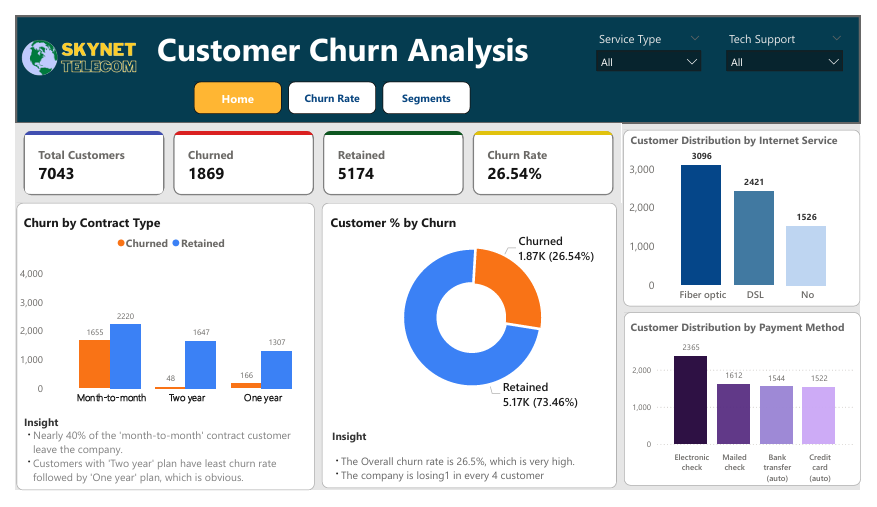

This screenshot's page, from the dashboard's own definition file:
{"tool":"powerbi","page":{"name":"Home","canvas":[1280,720],"ordinal":0},"visuals":[{"type":"shape","box":[0,0,1280,720],"z":0},{"type":"shape","box":[0,0,1280,162.9],"z":1000},{"type":"shape","box":[464.3,284.3,447.1,432.9],"z":2000},{"type":"shape","box":[922,450,358.6,263],"z":3000},{"type":"shape","box":[921.4,172.9,358.6,268.6],"z":4000},{"type":"textbox","box":[214.3,17.1,592.9,82.9],"z":5000},{"type":"cardVisual","fields":{"Data":["Count(churn_data.customerID)","churn_data.Churned Customer","churn_data.Retained Customer","churn_data.Churn Rate"]},"box":[0,163.1,919,120.5],"z":6000},{"type":"textbox","box":[471.7,295.3,355.6,36.7],"z":7000},{"type":"shape","box":[1.4,284.3,451.4,435.7],"z":8000},{"type":"clusteredColumnChart","fields":{"Category":["churn_data.Contract"],"Y":["CountNonNull(churn_data.Contract)"],"Series":["churn_data.Churn"]},"box":[1.5,323.3,467.3,276.2],"z":9000},{"type":"textbox","box":[7.3,295.3,373.2,39.7],"z":10000},{"type":"donutChart","fields":{"Category":["churn_data.Churn"],"Y":["CountNonNull(churn_data.Churn)"]},"box":[471.7,315.9,439.3,283.6],"z":11000},{"type":"columnChart","fields":{"Category":["churn_data.InternetService"],"Y":["CountNonNull(churn_data.customerID)"]},"box":[930.1,192.5,333.6,245.4],"z":12000},{"type":"clusteredColumnChart","fields":{"Category":["churn_data.PaymentMethod"],"Y":["CountNonNull(churn_data.customerID)"]},"box":[928.6,481.4,347.1,235.7],"z":13000},{"type":"textbox","box":[927.2,173.4,340.9,36.7],"z":14000},{"type":"textbox","box":[927.1,457.1,341.4,34.3],"z":15000},{"type":"textbox","box":[470.2,621.6,430.5,98.4],"z":16000},{"type":"image","box":[2.7,16.5,191.1,96.2],"z":17000},{"type":"pageNavigator","box":[270,100,421.4,48.6],"z":18000},{"type":"textbox","box":[2.9,599.5,421.7,117.6],"z":19000},{"type":"slicer","fields":{"Values":["churn_data.InternetService"]},"box":[871.3,17.6,177.8,77.9],"z":20000},{"type":"slicer","fields":{"Values":["churn_data.TechSupport"]},"box":[1068.2,17.6,195.4,77.9],"z":21000}]}

Visuals, with their boxes in screenshot pixels (x1, y1, x2, y2), scaled from the page's 1280x720 canvas onto the 877x507 screenshot:
shape: (0, 0, 876, 506)
shape: (0, 0, 876, 115)
shape: (318, 200, 624, 505)
shape: (632, 317, 876, 502)
shape: (631, 122, 876, 311)
textbox: (147, 12, 553, 70)
cardVisual - Count(churn_data.customerID) x churn_data.Churned Customer: (0, 115, 630, 200)
textbox: (323, 208, 567, 234)
shape: (1, 200, 310, 506)
clusteredColumnChart - churn_data.Contract x CountNonNull(churn_data.Contract): (1, 228, 321, 422)
textbox: (5, 208, 261, 236)
donutChart - churn_data.Churn x CountNonNull(churn_data.Churn): (323, 222, 624, 422)
columnChart - churn_data.InternetService x CountNonNull(churn_data.customerID): (637, 136, 866, 308)
clusteredColumnChart - churn_data.PaymentMethod x CountNonNull(churn_data.customerID): (636, 339, 874, 505)
textbox: (635, 122, 869, 148)
textbox: (635, 322, 869, 346)
textbox: (322, 438, 617, 506)
image: (2, 12, 133, 79)
pageNavigator: (185, 70, 474, 105)
textbox: (2, 422, 291, 505)
slicer - churn_data.InternetService: (597, 12, 719, 67)
slicer - churn_data.TechSupport: (732, 12, 866, 67)
